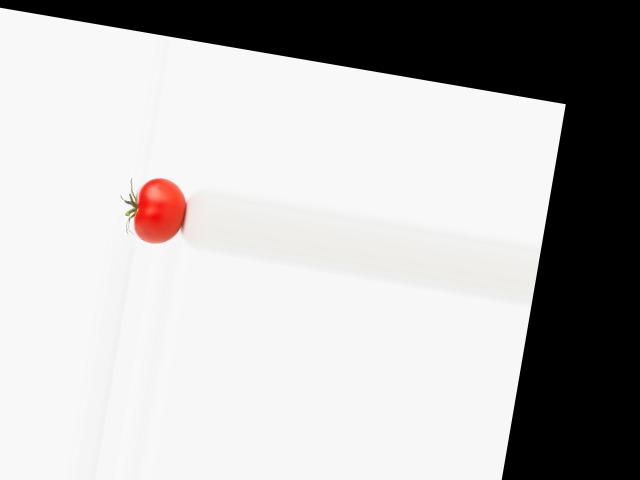tomato: (130, 174, 189, 246)
